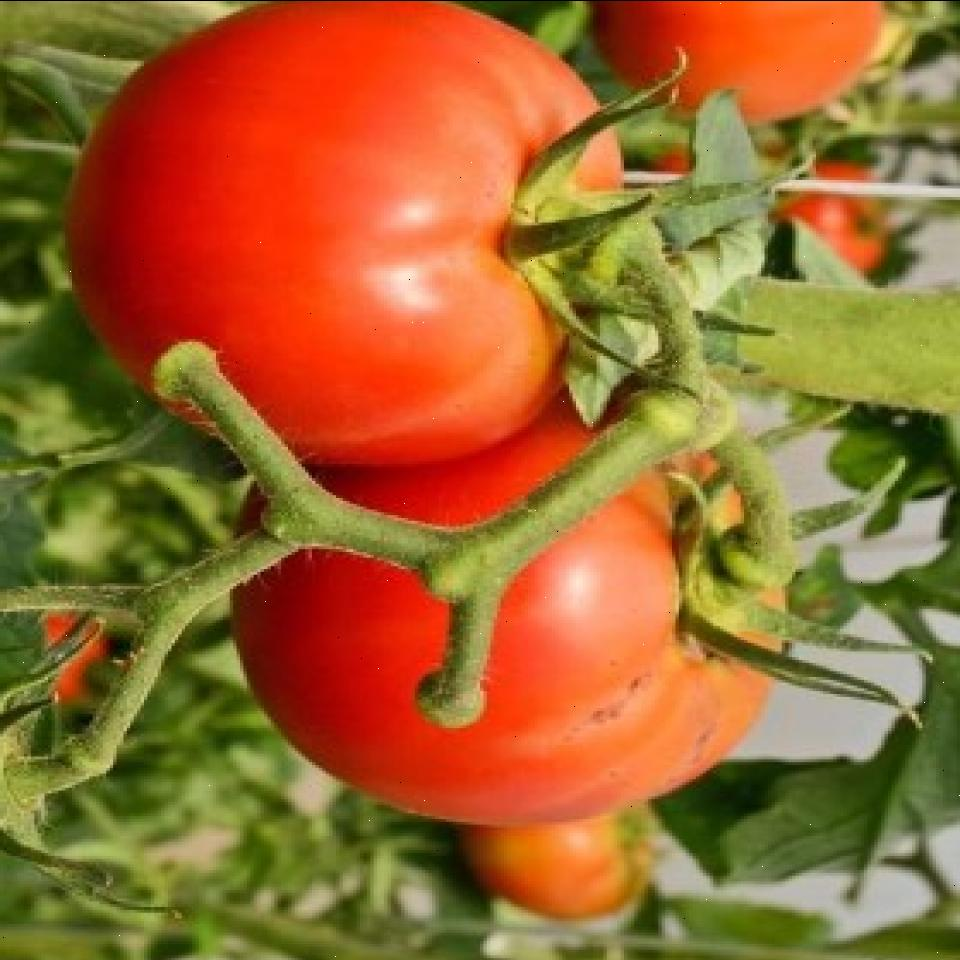Healthy: (41, 0, 638, 446), (228, 416, 794, 862), (606, 0, 908, 130)
